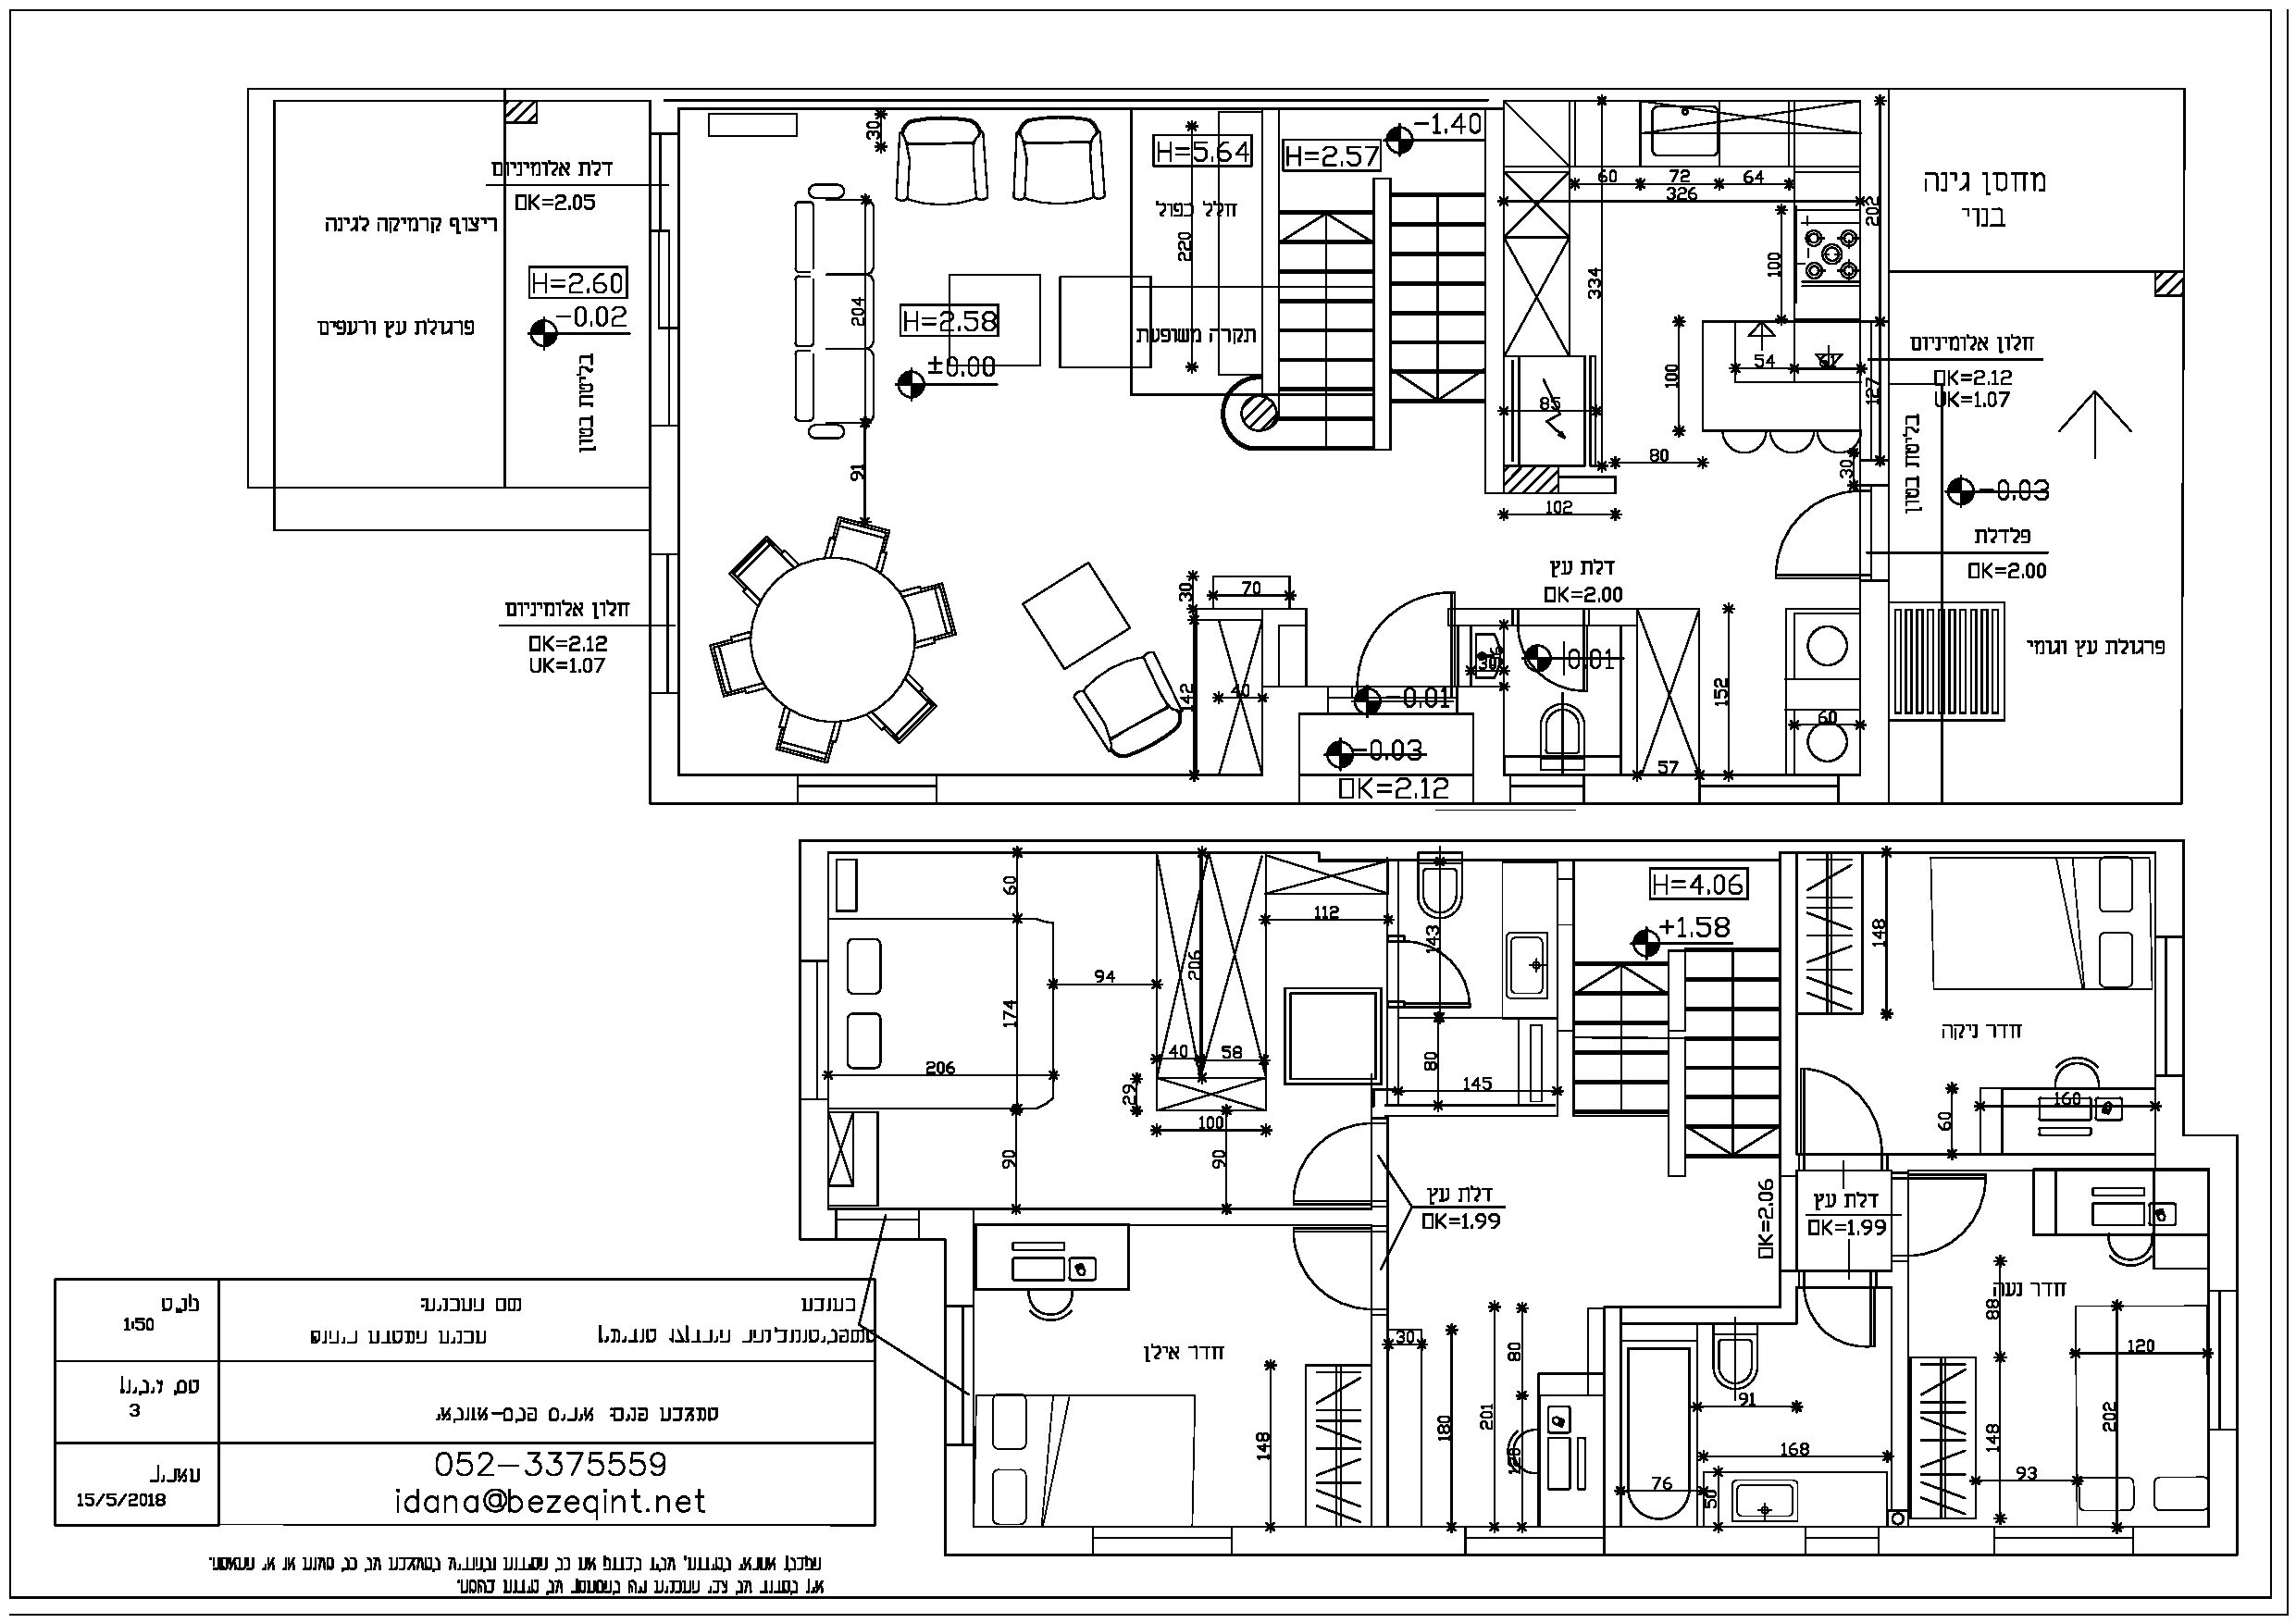door: (1346, 590, 1453, 682), (1771, 494, 1866, 585), (1894, 1170, 1992, 1256), (1797, 1064, 1892, 1151), (1291, 1221, 1370, 1314)
window: (2212, 1284, 2242, 1437), (1997, 1528, 2138, 1556), (796, 773, 935, 801), (2154, 931, 2180, 1078), (799, 956, 826, 1103), (1700, 775, 1839, 799), (653, 553, 678, 689), (1091, 1530, 1235, 1553), (1467, 1528, 1600, 1549)
